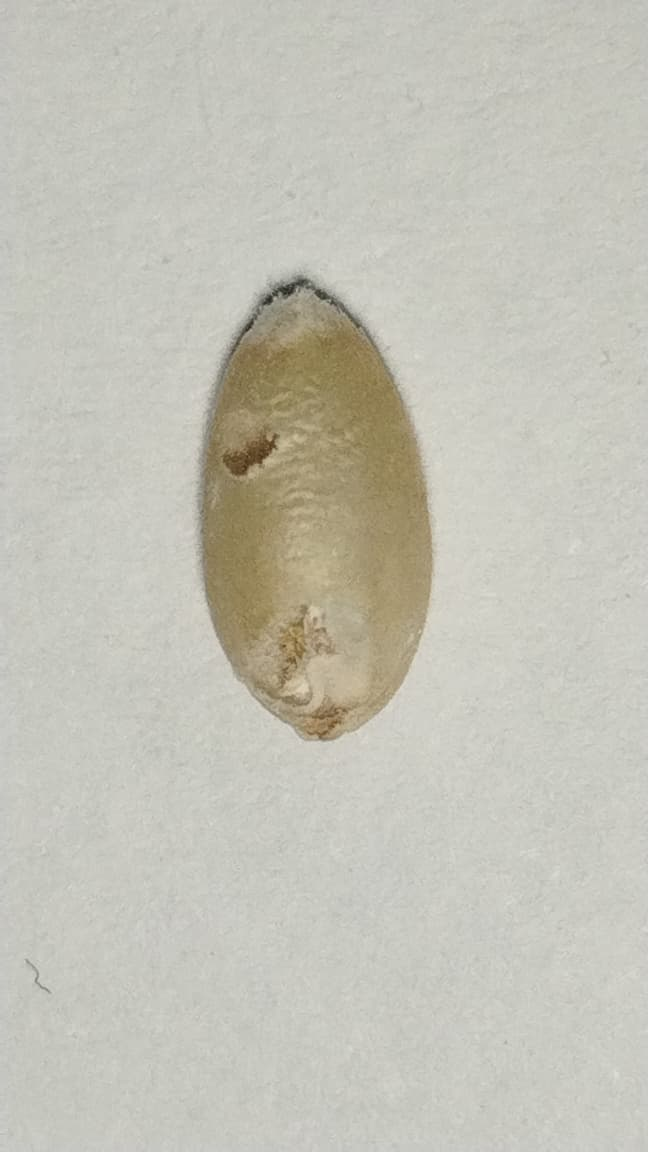damage: (199, 284, 433, 739)
insectdamage: (247, 545, 382, 738), (196, 373, 286, 506)
